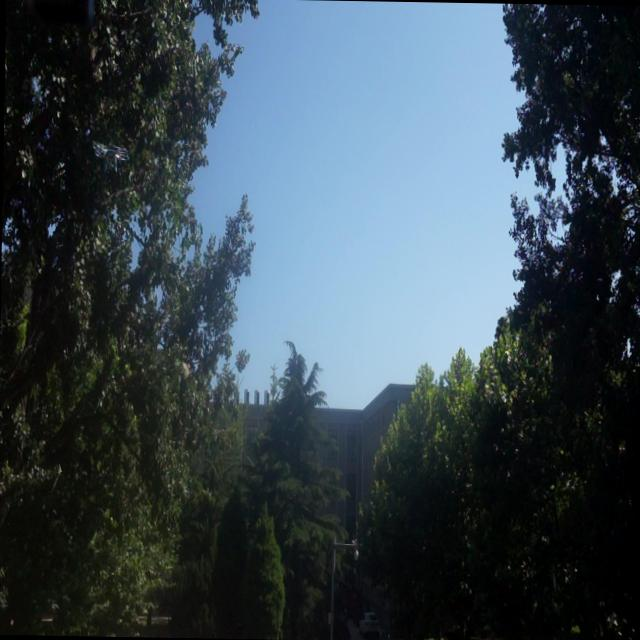drone: (88, 134, 133, 180)
